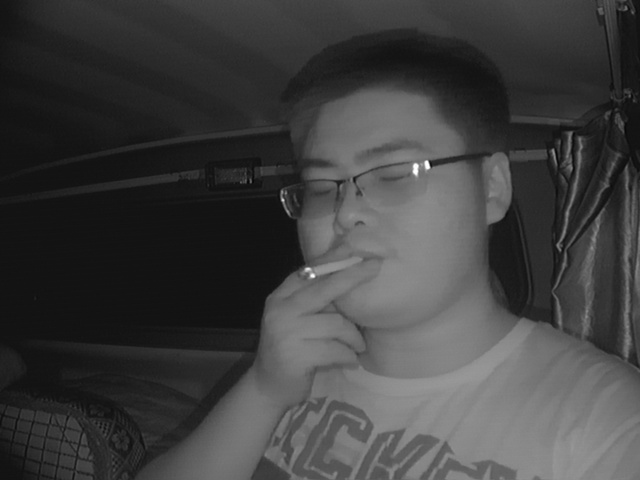hand: (259, 244, 374, 384)
